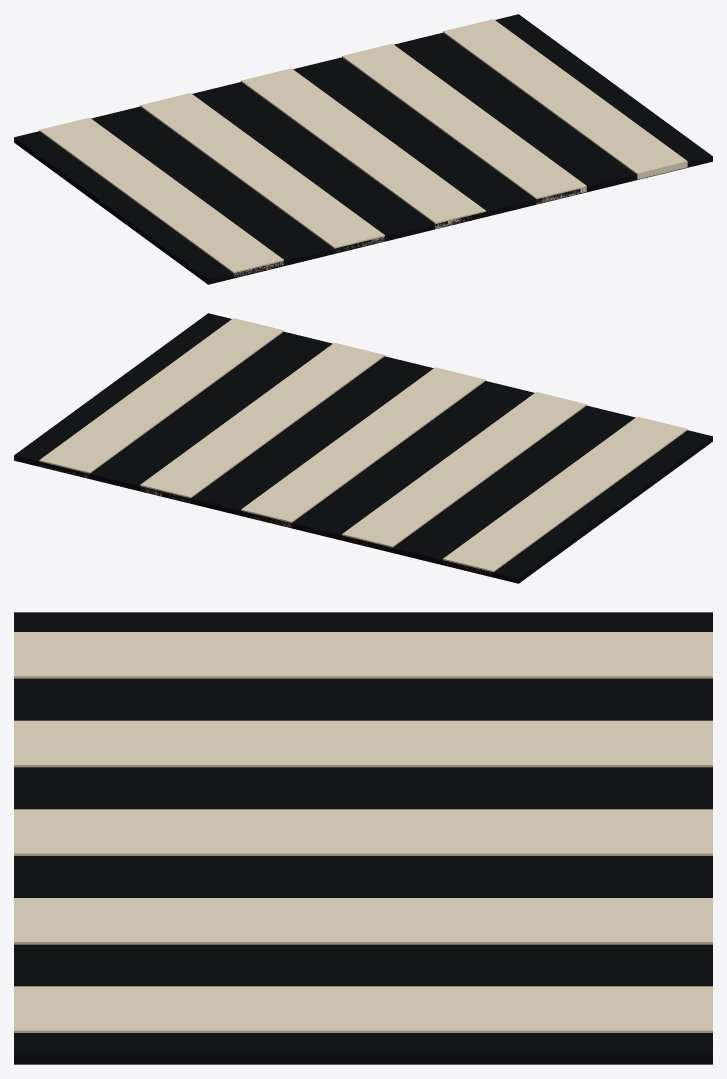
Rendered from crosswalk_strip.obj.
3 renders of one model, top to bottom at view 1: azimuth 30°, elevation 25°; view 2: azimuth 150°, elevation 25°; view 3: azimuth 270°, elevation 25°, orthographic. The views are drawn at different scales.
Visible parts, largest first — view 1: crosswalk_strip; view 2: crosswalk_strip; view 3: crosswalk_strip.
Boxes of the visible parts, x1,y1,x2,y2 form: crosswalk_strip: (14, 14, 712, 284); crosswalk_strip: (14, 313, 712, 583); crosswalk_strip: (14, 612, 712, 1064).
Bounding box in the file's own units: 3 × 0.0375 × 2.
